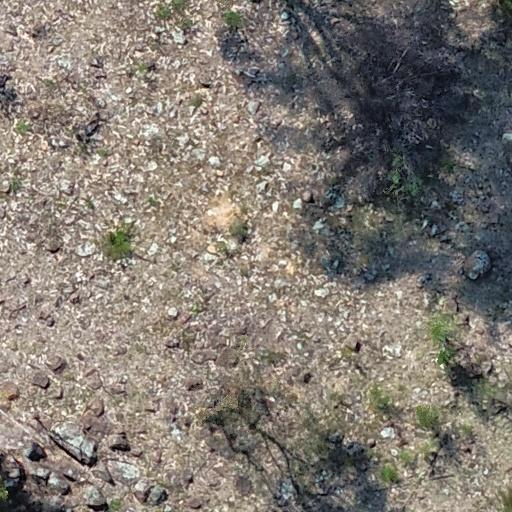stone: (162, 306, 204, 344), (32, 466, 72, 496), (2, 449, 24, 490), (81, 482, 108, 508), (82, 415, 110, 439), (107, 434, 132, 460), (281, 476, 302, 506), (19, 440, 49, 459), (159, 395, 182, 419), (2, 379, 17, 414), (360, 262, 385, 282), (164, 24, 186, 46), (84, 370, 104, 392), (85, 396, 105, 417), (292, 184, 313, 204), (44, 355, 66, 374), (32, 370, 52, 388), (40, 310, 58, 330), (343, 335, 363, 353), (45, 382, 64, 400), (142, 486, 165, 500), (109, 380, 128, 396), (424, 220, 439, 240), (76, 242, 96, 257), (499, 128, 512, 150), (184, 378, 204, 392), (167, 306, 183, 322), (253, 154, 271, 168), (48, 136, 68, 148), (380, 426, 396, 440), (418, 272, 434, 286), (190, 147, 206, 161), (246, 100, 260, 116), (112, 344, 128, 358), (2, 182, 16, 196), (207, 155, 222, 168), (313, 287, 329, 298), (46, 242, 62, 253), (165, 338, 180, 348), (302, 372, 314, 384), (390, 448, 398, 456)
